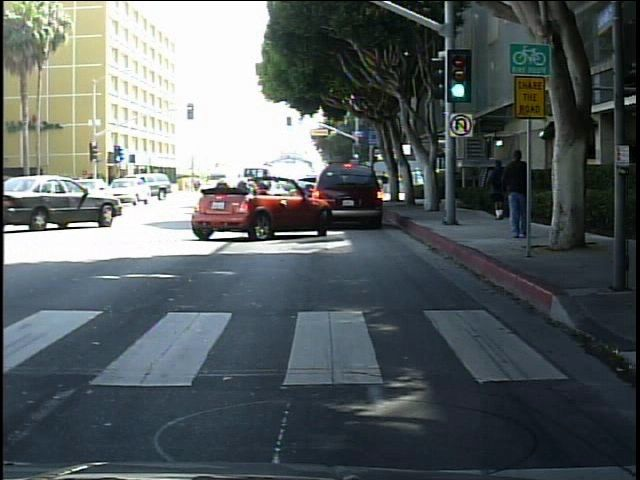person: (501, 141, 530, 239), (488, 157, 510, 222), (412, 165, 425, 186)
